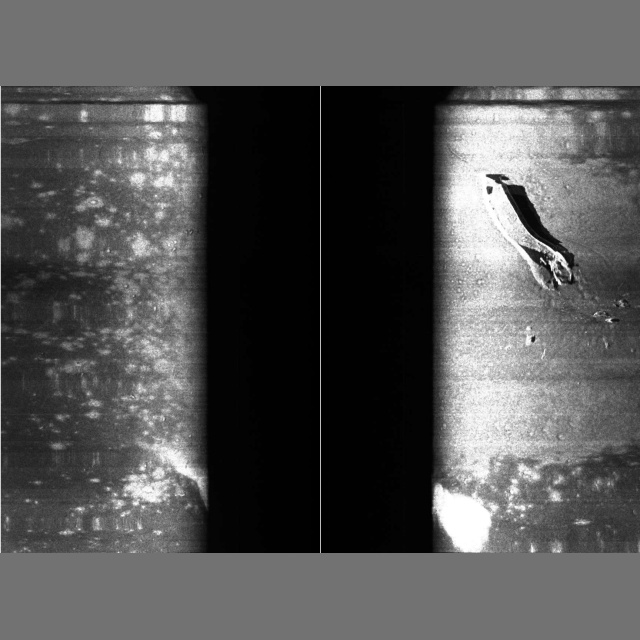Shipwreck: (480, 174, 626, 384)
